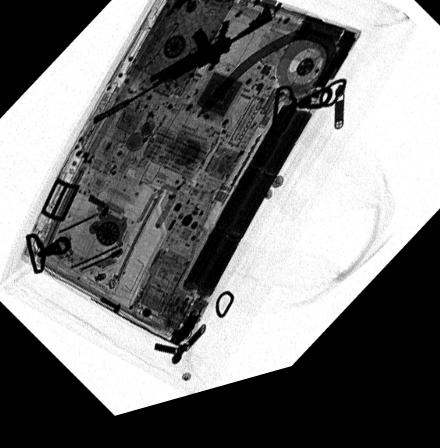Gun: (92, 19, 273, 129)
